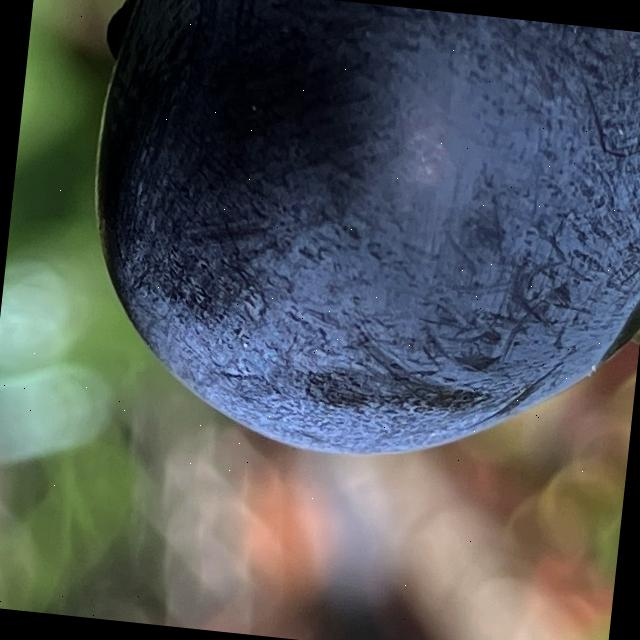Blueberries: (65, 0, 640, 490)
